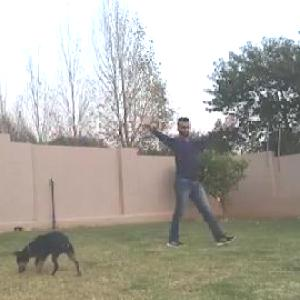takeoff: (109, 115, 228, 245)
